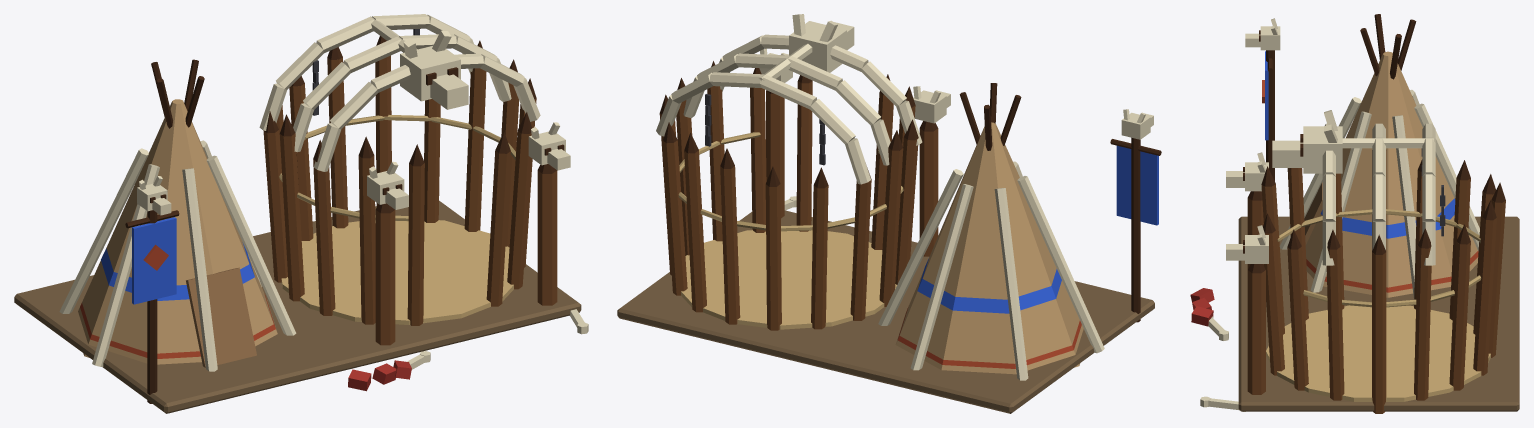
Rendered from Bestiary.glb.
3 views of the same model, side by side, from view 1: azimuth 30°, elevation 25°; view 2: azimuth 150°, elevation 25°; view 3: azimuth 270°, elevation 25° (orthographic). The views are drawn at different scales.
Visible parts, largest first — view 1: Bestiary; view 2: Bestiary; view 3: Bestiary.
Boxes of the visible parts, x1,y1,x2,y2 form: Bestiary: [14, 14, 588, 413]; Bestiary: [617, 14, 1161, 413]; Bestiary: [1190, 14, 1519, 413].
Size of the model in its own units: 4.4 by 2.51 by 3.02.
